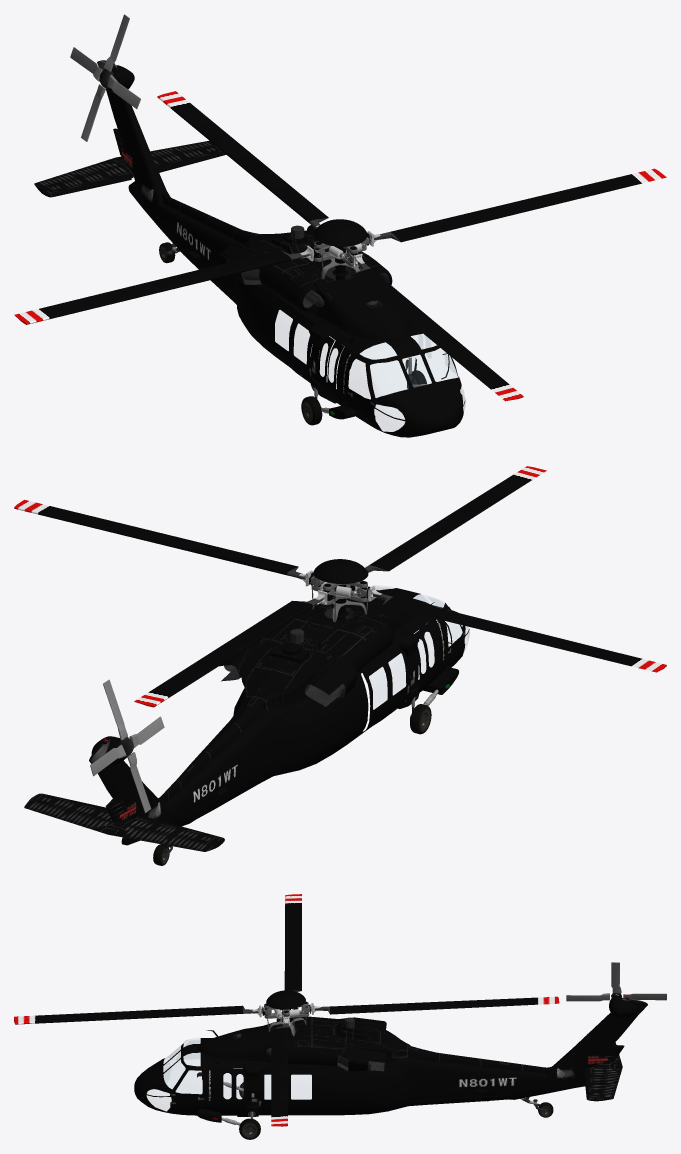
Rendered from heavyd.gltf.
3 views of the same model, one above another, from view 1: azimuth 30°, elevation 25°; view 2: azimuth 150°, elevation 25°; view 3: azimuth 270°, elevation 25° (orthographic). The views are drawn at different scales.
Visible parts, largest first — view 1: Exterior, Spin_0, Spin_1; view 2: Exterior, Spin_0, Spin_1; view 3: Exterior, Spin_0, Spin_1.
Part boxes in pixels (<box>): Exterior: <box>34,60,465,437</box>; Spin_0: <box>14,91,666,401</box>; Spin_1: <box>70,14,140,141</box>; Exterior: <box>24,584,469,865</box>; Spin_0: <box>14,466,666,707</box>; Spin_1: <box>90,679,164,813</box>; Exterior: <box>134,995,647,1139</box>; Spin_0: <box>14,894,559,1126</box>; Spin_1: <box>566,962,666,1001</box>.
Size of the model in its own units: 16.25 by 5.25 by 19.43.
Materials: 7 (7 with a texture image).
